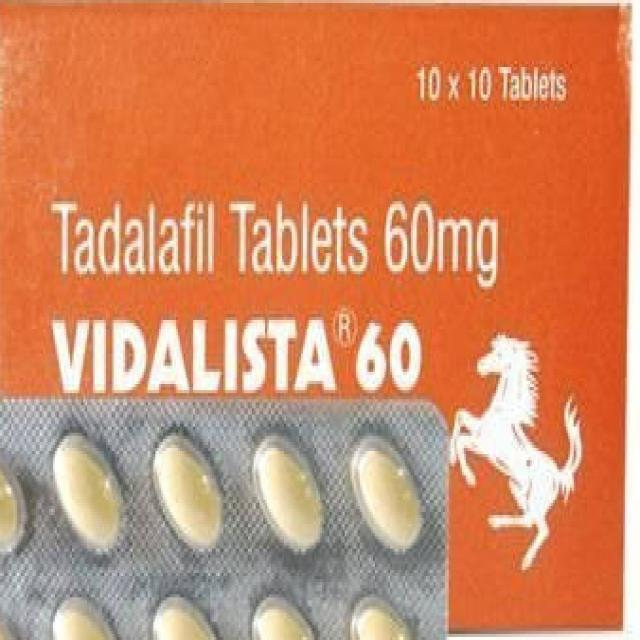drug-name: (50, 303, 435, 397)
